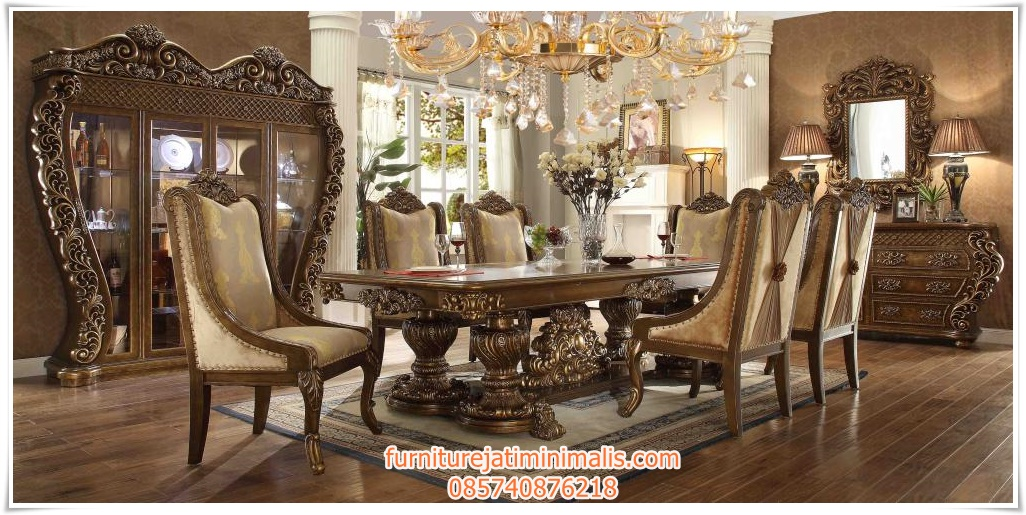Carving Chair: (126, 163, 387, 470)
Carving Table: (361, 258, 683, 443)
